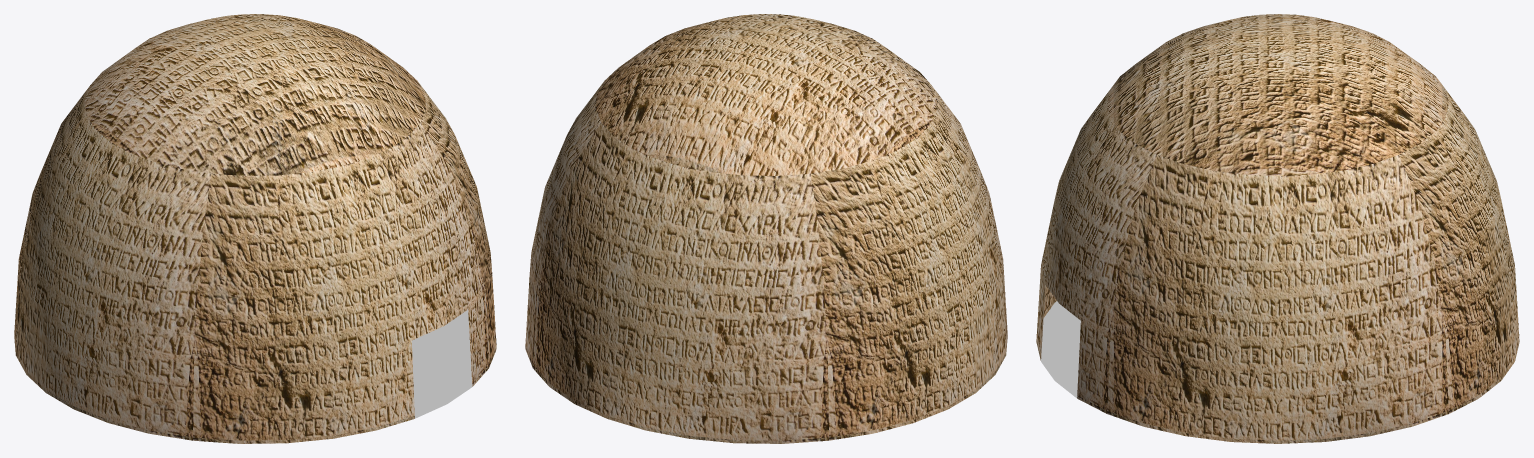
The model's file is cupula_del_trueno.FBX.
3 renders of one model, left to right at view 1: azimuth 30°, elevation 25°; view 2: azimuth 150°, elevation 25°; view 3: azimuth 270°, elevation 25°, orthographic.
Parts seen in each view (by area): view 1: cupula_del_trueno; view 2: cupula_del_trueno; view 3: cupula_del_trueno.
Boxes of the visible parts, x1,y1,x2,y2 form: cupula_del_trueno: (14, 14, 496, 443); cupula_del_trueno: (525, 14, 1007, 443); cupula_del_trueno: (1036, 14, 1519, 443).
Size of the model in its own units: 232 by 161 by 232.
